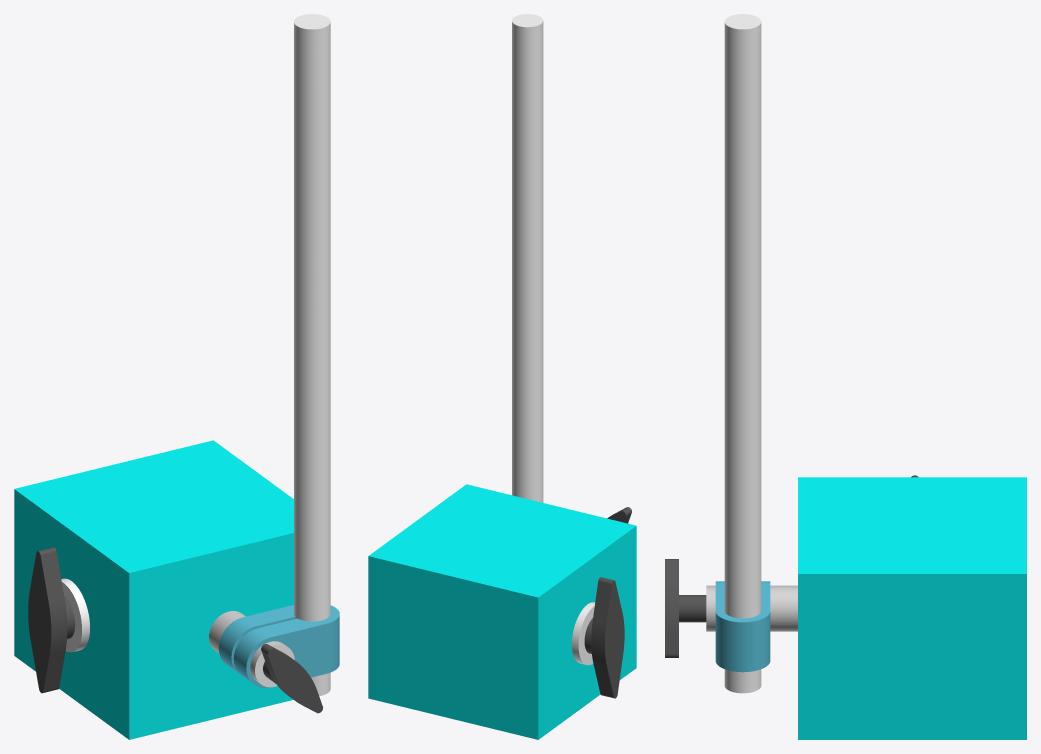
The picture shows the model from 3 angles, left to right: view 1: azimuth 30°, elevation 25°; view 2: azimuth 150°, elevation 25°; view 3: azimuth 270°, elevation 25°; orthographic projection. The views are drawn at different scales.
Visible parts, largest first — view 1: NONE_DC_Shell, _1_DC_Shell; view 2: NONE_DC_Shell, _1_DC_Shell; view 3: NONE_DC_Shell, _1_DC_Shell.
Part boxes in pixels (x1,y1,x2,y2): NONE_DC_Shell: (14, 440, 322, 739); _1_DC_Shell: (218, 14, 339, 695); NONE_DC_Shell: (368, 484, 636, 739); _1_DC_Shell: (512, 14, 543, 502); NONE_DC_Shell: (665, 475, 1026, 739); _1_DC_Shell: (715, 14, 770, 693).
Size of the model in its own units: 29 by 83.98 by 39.5.
